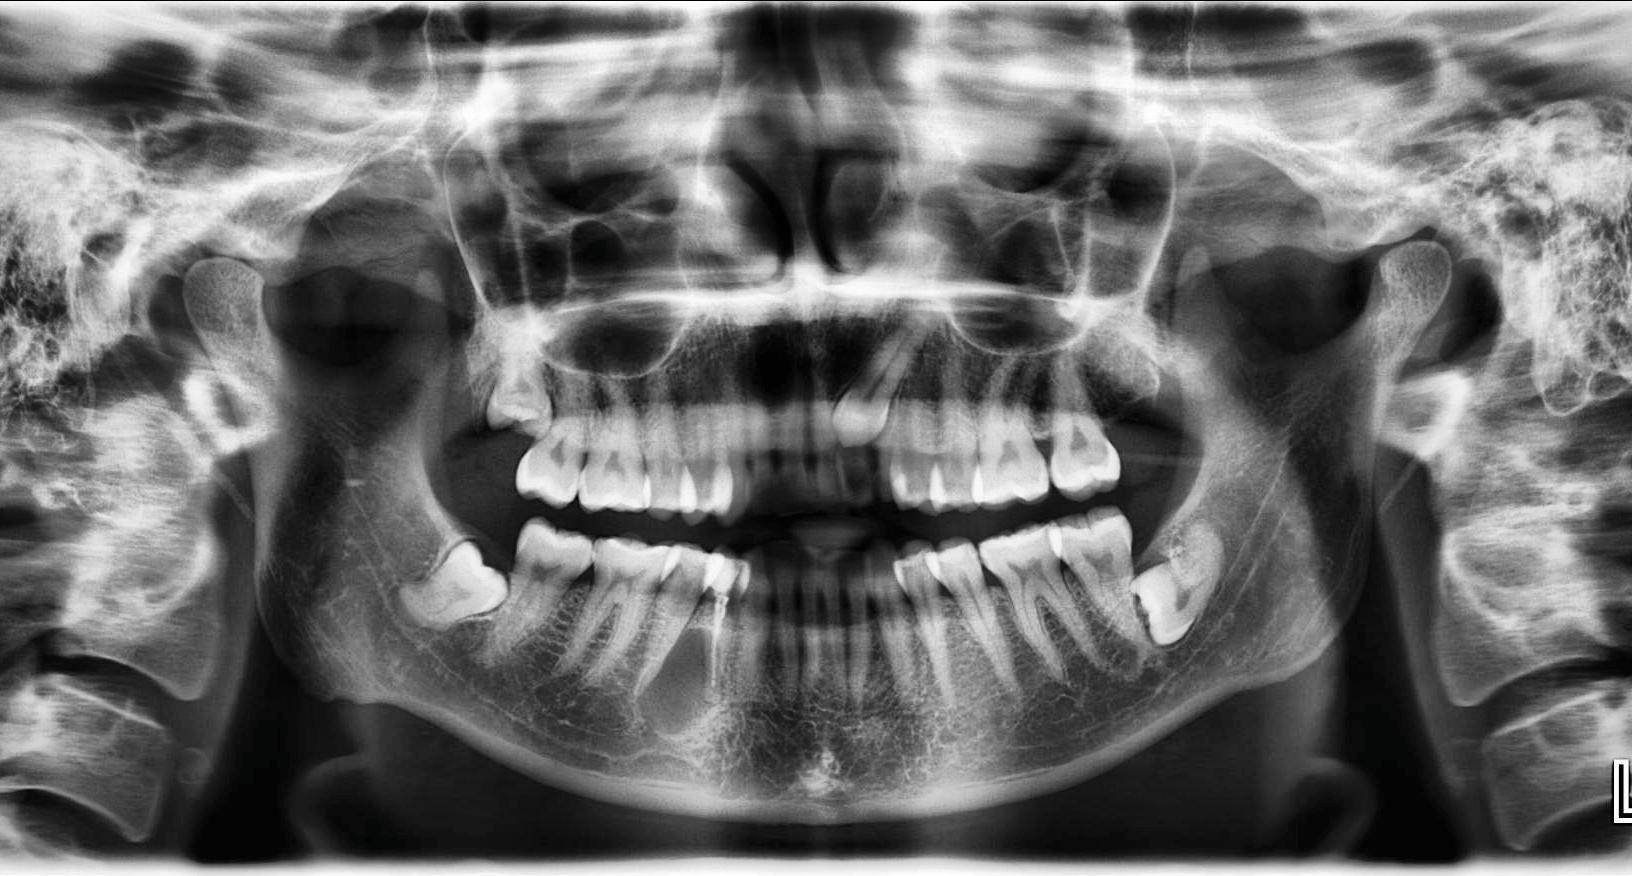radikuler: (637, 626, 728, 736)
